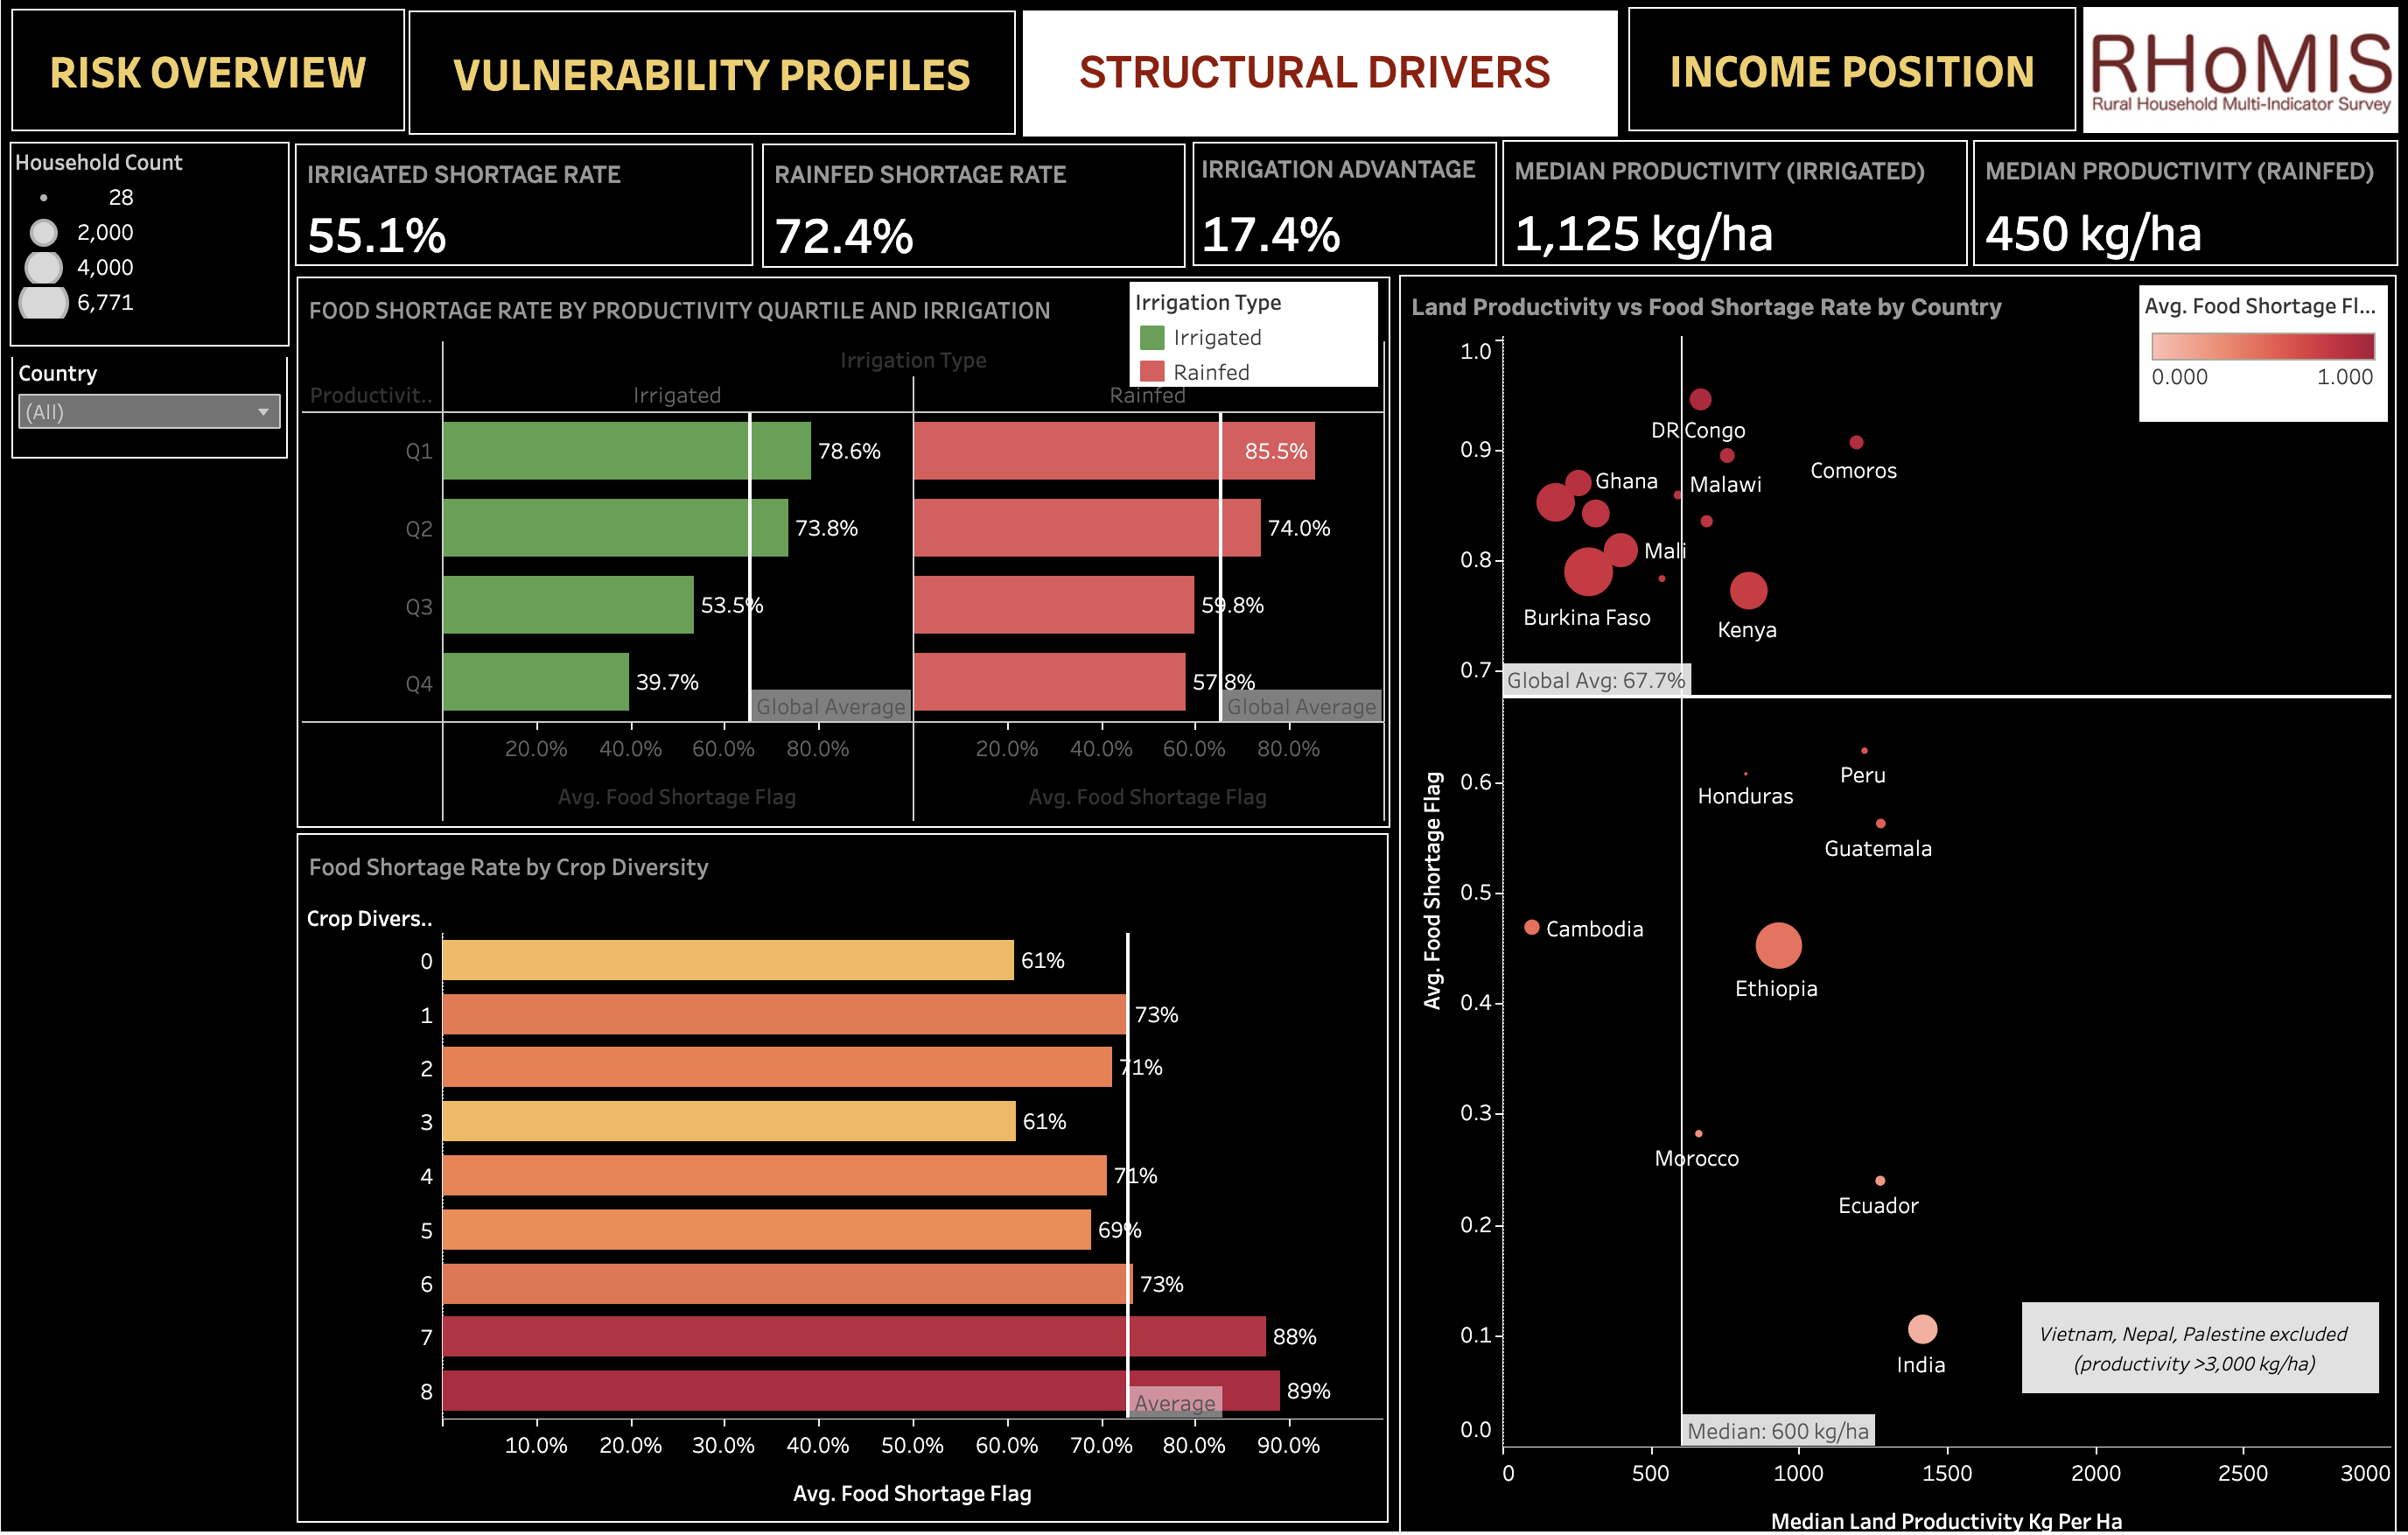

The dashboard page shown, as its layout file describes it:
{"tool":"tableau","page":{"name":"STRUCTURAL DRIVERS","canvas":[1400,900],"ordinal":2},"visuals":[{"type":"blank","box":[8,8,1384,884]},{"type":"dashboard-object","box":[942,16,256,71]},{"type":"image","param":"Image/rhomis-logo.png","box":[1202,16,182,72]},{"type":"dashboard-object","box":[18,17,225,70]},{"type":"dashboard-object","box":[245,18,347,71]},{"type":"text","box":[596,18,340,72]},{"type":"worksheet","title":"KPI3-MEDIAN PRODUCTIVITY (IRRIGATED)","mark":"Automatic","box":[870,92,266,72]},{"type":"worksheet","title":"KPI3-MEDIAN PRODUCTIVITY (RAINFED)","mark":"Automatic","box":[1139,92,243,72]},{"type":"legend","title":"Land Productivity vs Food Shortage Rate by Country ","param":"[federated.18g2uha1kfgs62108f3sf1ksln33].[usr:Calculation_3682809765310495:qk]","box":[17,93,160,117]},{"type":"worksheet","title":"KPI3-IRRIGATION ADVANTAGE","mark":"Automatic","box":[693,93,174,71]},{"type":"worksheet","title":"KPI3-IRRIGATED SHORTAGE RATE","mark":"Automatic","box":[180,94,262,70]},{"type":"worksheet","title":"KPI3-RAINFED SHORTAGE RATE","mark":"Automatic","box":[447,94,242,71]},{"type":"worksheet","title":"Land Productivity vs Food Shortage Rate by Country ","mark":"Circle","rows":["food_shortage_flag"],"cols":["land_productivity_kg_per_ha"],"box":[811,169,570,729]},{"type":"worksheet","title":"FOOD SHORTAGE RATE BY PRODUCTIVITY QUARTILE AND IRRIGATION","mark":"Automatic","rows":["productivity_quartile"],"cols":["Calculation_3682809762775070","food_shortage_flag"],"box":[181,170,625,315]},{"type":"legend","title":"FOOD SHORTAGE RATE BY PRODUCTIVITY QUARTILE AND IRRIGATION","param":"[federated.18g2uha1kfgs62108f3sf1ksln33].[none:Calculation_3682809762775070:nk]","box":[657,173,142,60]},{"type":"legend","title":"Land Productivity vs Food Shortage Rate by Country ","param":"[federated.18g2uha1kfgs62108f3sf1ksln33].[avg:food_shortage_flag:qk]","box":[1234,175,142,78]},{"type":"filter","title":"KPI3-IRRIGATED SHORTAGE RATE","param":"[federated.18g2uha1kfgs62108f3sf1ksln33].[none:country:nk]","box":[18,214,158,60]},{"type":"worksheet","title":"Food Shortage Rate by Crop Diversity","mark":"Bar","rows":["crop_diversity_count"],"cols":["food_shortage_flag"],"box":[181,488,624,394]}]}

Visuals, with their boxes in screenshot pixels (x1, y1, x2, y2), scaled from the page's 1400x900 canvas onto the 2408x1535 screenshot:
blank: 14 14 2394 1521
dashboard-object: 1620 27 2061 149
image: 2068 27 2381 151
dashboard-object: 31 29 418 149
dashboard-object: 422 31 1018 151
text: 1025 31 1610 153
"KPI3-MEDIAN PRODUCTIVITY (IRRIGATED)" worksheet: 1496 157 1954 280
"KPI3-MEDIAN PRODUCTIVITY (RAINFED)" worksheet: 1959 157 2377 280
"Land Productivity vs Food Shortage Rate by Country " legend: 29 158 304 358
"KPI3-IRRIGATION ADVANTAGE" worksheet: 1192 158 1491 280
"KPI3-IRRIGATED SHORTAGE RATE" worksheet: 310 160 760 280
"KPI3-RAINFED SHORTAGE RATE" worksheet: 769 160 1185 282
"Land Productivity vs Food Shortage Rate by Country " worksheet (Circle marks): 1395 288 2376 1531
"FOOD SHORTAGE RATE BY PRODUCTIVITY QUARTILE AND IRRIGATION" worksheet: 311 290 1386 827
"FOOD SHORTAGE RATE BY PRODUCTIVITY QUARTILE AND IRRIGATION" legend: 1130 295 1375 397
"Land Productivity vs Food Shortage Rate by Country " legend: 2123 298 2367 431
"KPI3-IRRIGATED SHORTAGE RATE" filter: 31 365 303 467
"Food Shortage Rate by Crop Diversity" worksheet (Bar marks): 311 832 1384 1504
